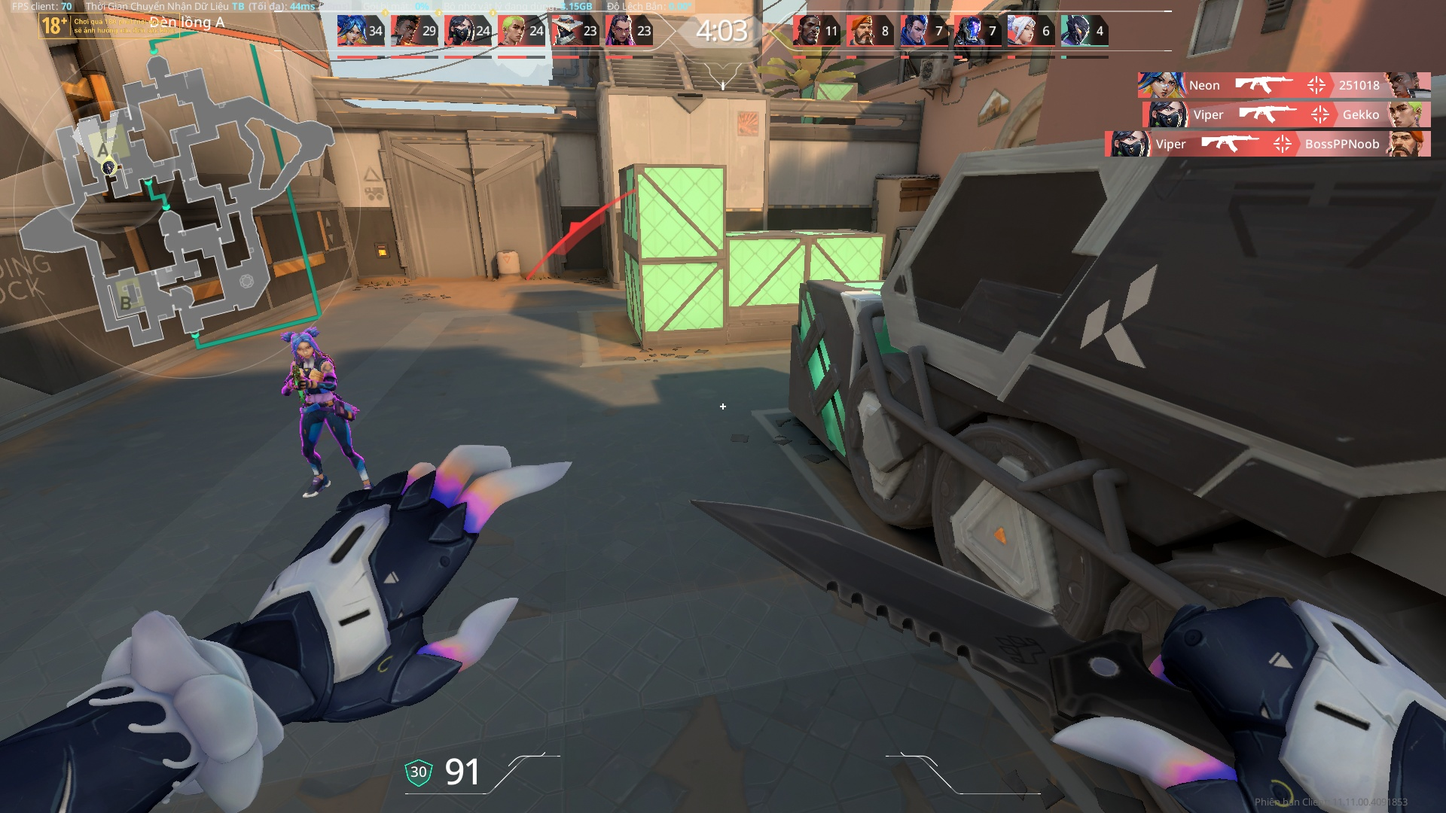body: (294, 357, 341, 410)
head: (289, 330, 318, 362)
